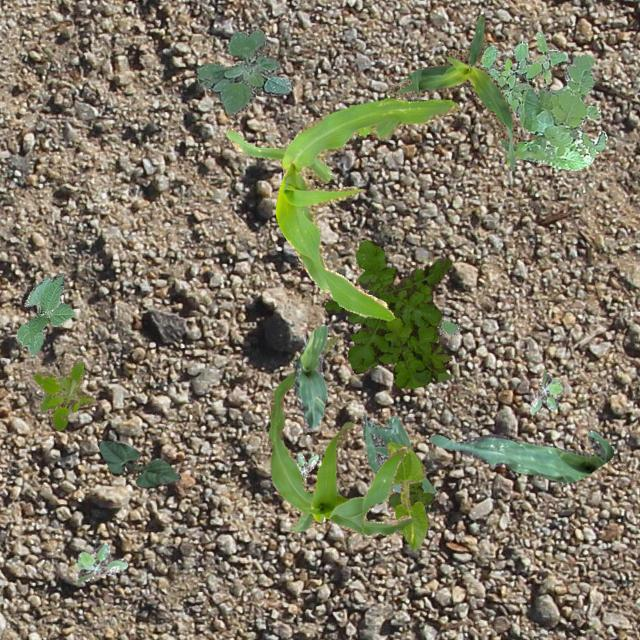crop: (224, 98, 460, 320), (268, 336, 414, 534), (387, 15, 518, 170), (428, 428, 612, 482), (360, 412, 434, 512), (15, 272, 74, 356), (386, 441, 428, 548), (292, 324, 332, 431), (96, 439, 180, 486)
weed: (324, 240, 452, 388), (516, 52, 606, 170), (195, 28, 292, 114), (481, 30, 566, 116), (32, 358, 92, 429), (75, 542, 126, 582), (528, 368, 562, 414), (388, 480, 433, 508), (296, 452, 318, 480), (436, 320, 461, 334)
